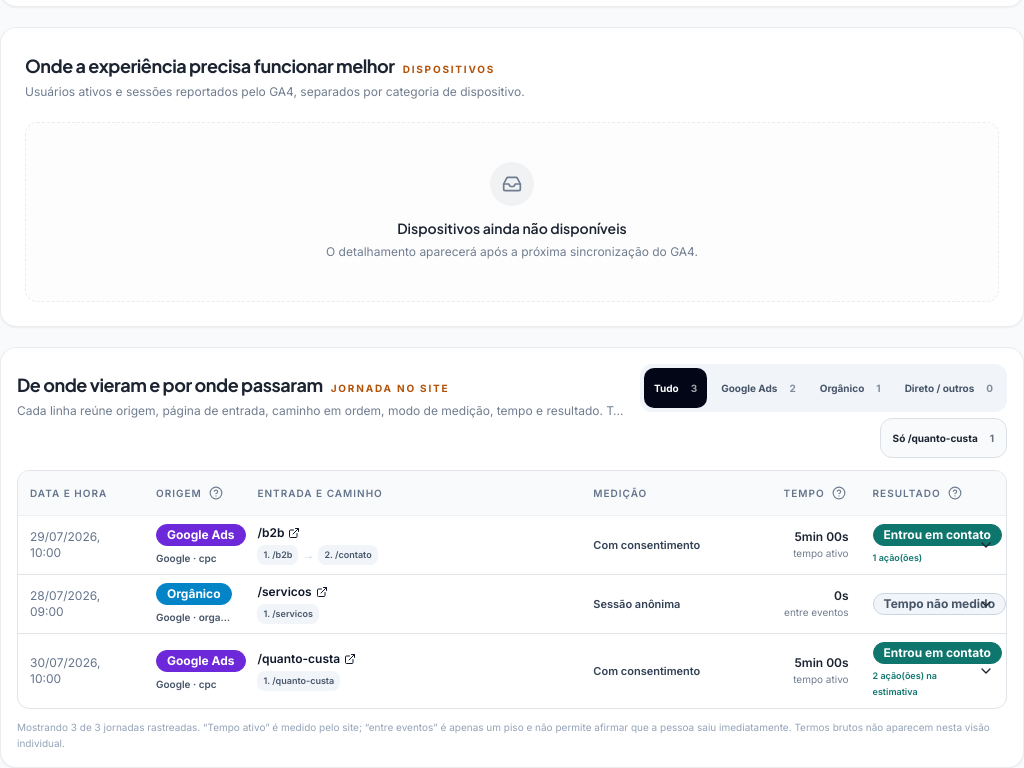
organização do painel Crescimento › filtra /quanto-custa e mostra os cliques da pergunta na ordem da sessão
The width and height of the screenshot is (1024, 768).
(page scrolled)
Step 1. Click the button "Só /quanto-custa 1" → [943, 438], box x1=880 y1=418 x2=1007 y2=458
(page scrolled)
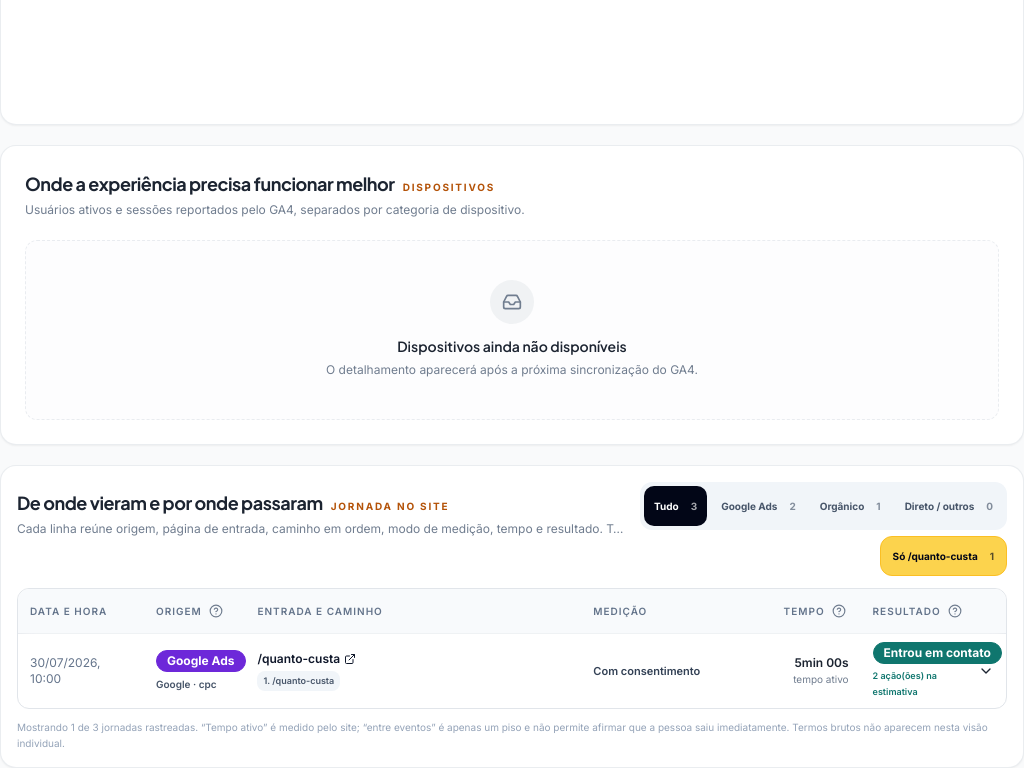
Check: the text "2 ação(ões) na estimativa" is shown, box x1=873 y1=670 x2=937 y2=697
Check: the text "Mostrando 1 de 3 jornadas rastreadas" is shown, box x1=17 y1=719 x2=1007 y2=751
Step 2. Click the button named "Ver detalhes da sessão sessao-estimativa" → [986, 671], box x1=970 y1=651 x2=1002 y2=691
(page scrolled)
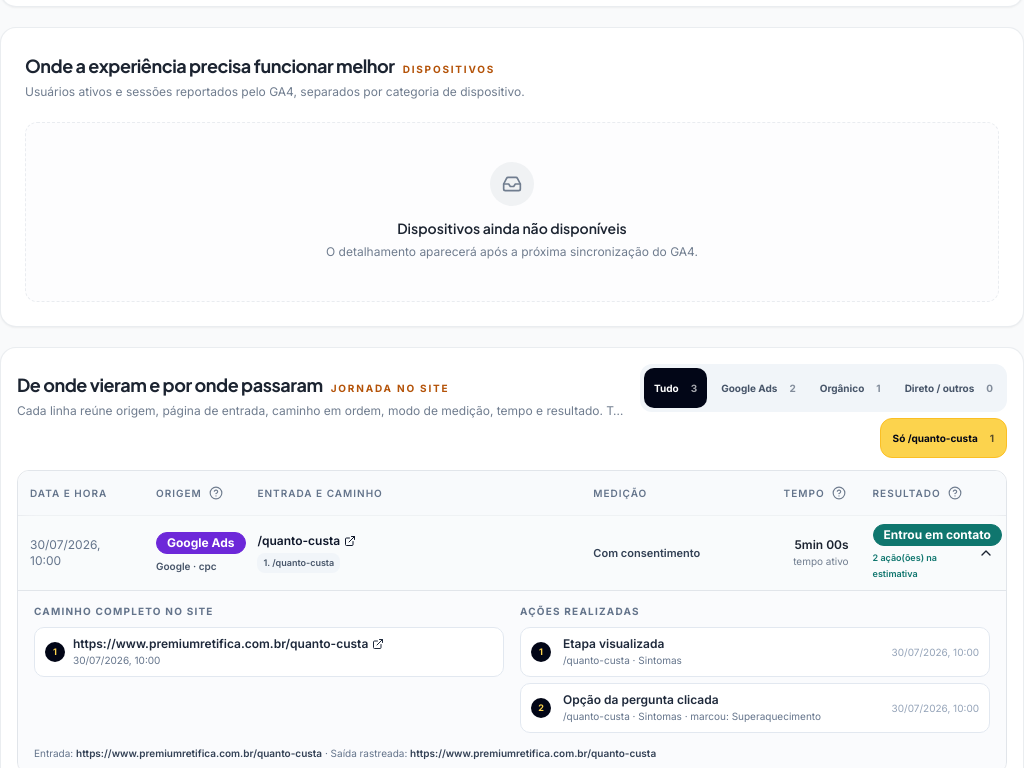
Check: the text "Etapa visualizada" is shown, box x1=563 y1=636 x2=664 y2=651
Check: the text "Opção da pergunta clicada" is shown, box x1=563 y1=692 x2=719 y2=707
Check: the text "/quanto-custa · Sintomas · marcou: Superaquecimento" is shown, box x1=563 y1=710 x2=821 y2=722
